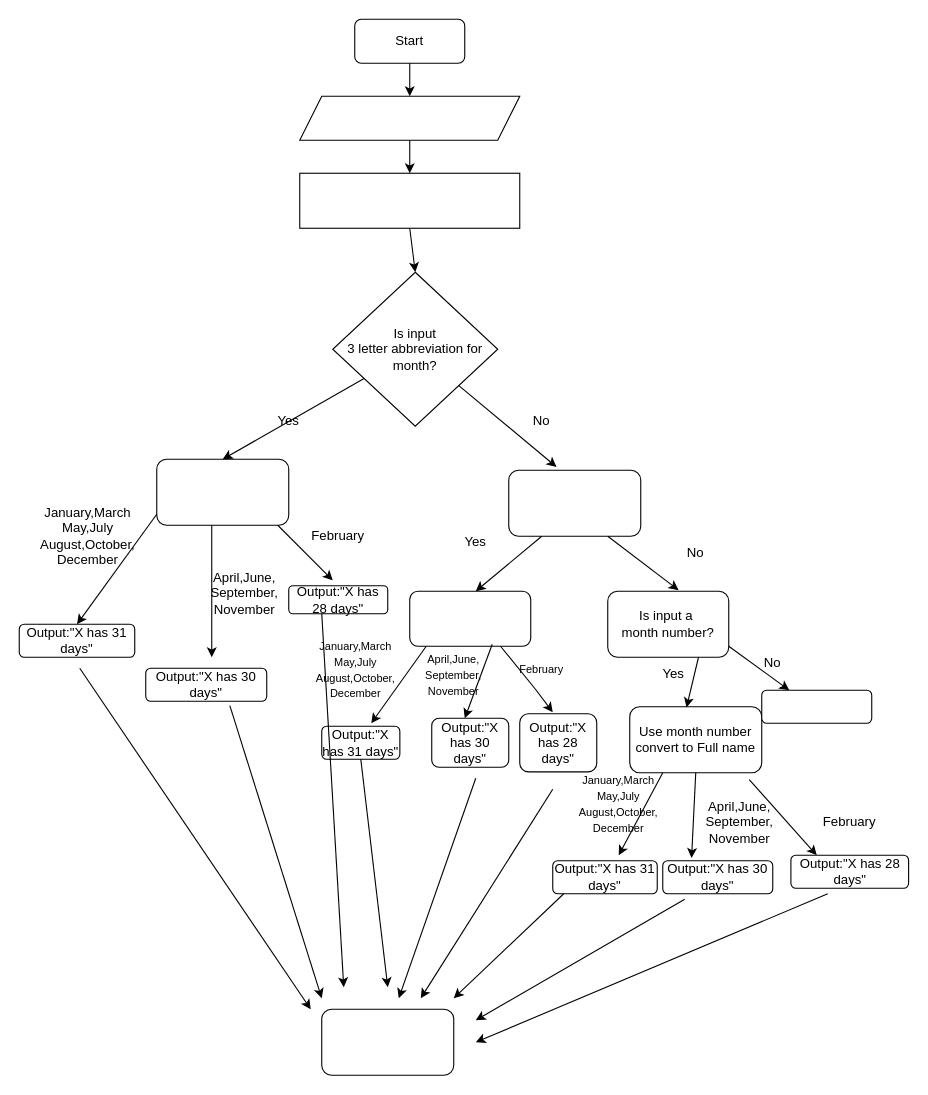
This 928x1095 diagram has some shape labels left out. The shapes that lost their labels are listed below. From the top down, each one's centre as x and y in pixels, then its label:
At (409,117): "input the month".
At (409,200): "Convert input to lowercase".
At (222,491): "Convert 3 letter abbreviation to Full name of the month".
At (574,502): "Is input a full name?".
At (470,618): "use month number".
At (816,706): "Invaild input".
At (387,1041): "Stop".
